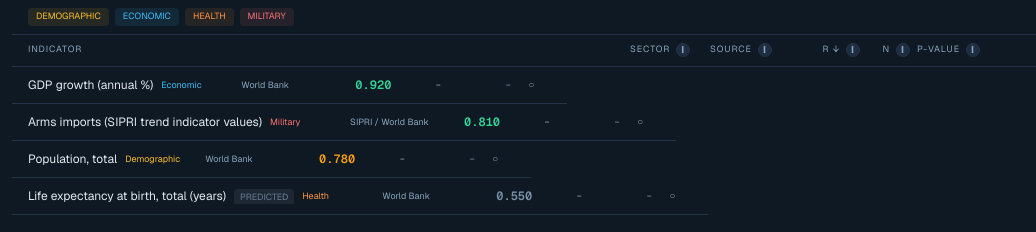
Scenario: ScdiTable › filters rows by sector when chip is clicked
This screenshot has width=1036, height=232.
Click the button "ECONOMIC" at x=147, y=17, box [115,8,179,26]
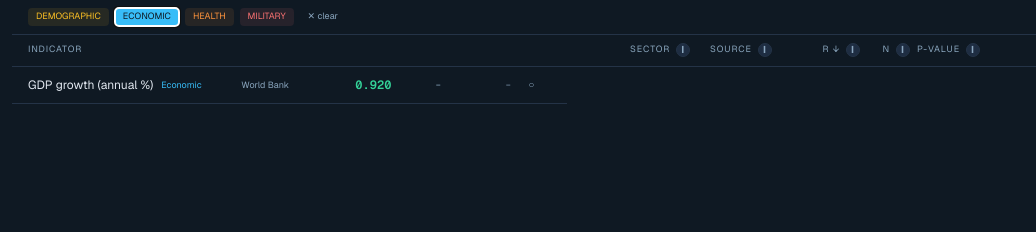
Expected: the text "GDP growth (annual %)" is shown, [28,76,161,92]
Expected: the button "Population" is gone
